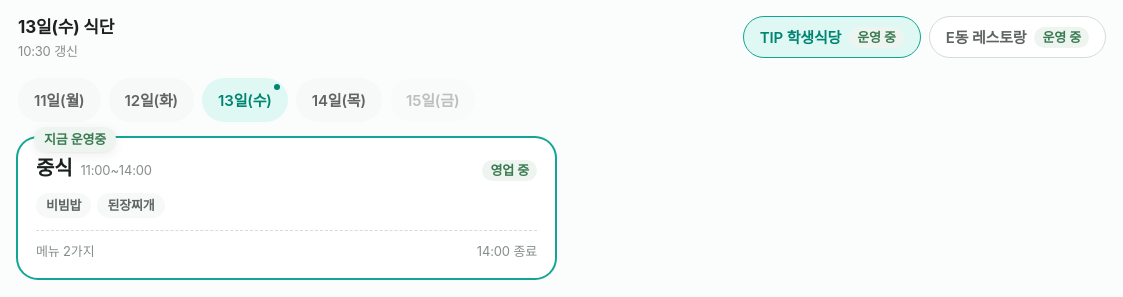
Scenario: CafeteriaPCLayout › 다른 요일 칩 선택 후 다른 식당 카드를 클릭하면 식당이 전환되고 요일 선택이 오늘로 복원된다
11일 칩으로 수동 선택 변경
Click the button "11일(월)": point(59, 100) [18, 78, 100, 122]
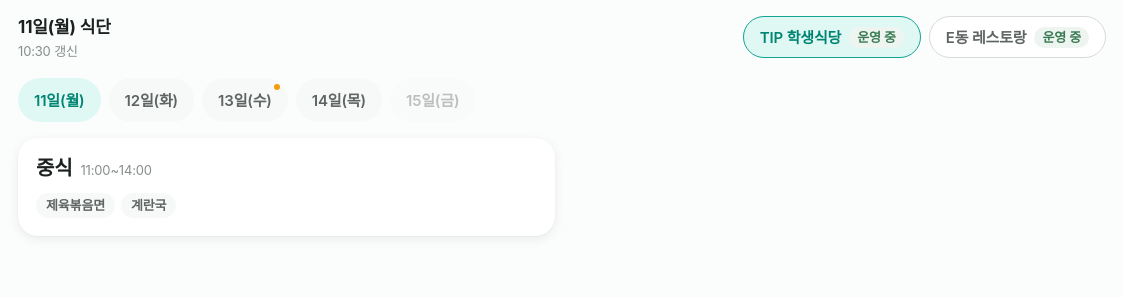
Expected: the text "제육볶음면" is shown, [36, 193, 115, 218]
Click the button "E동 레스토랑 운영 중": point(1017, 37) [929, 16, 1106, 58]
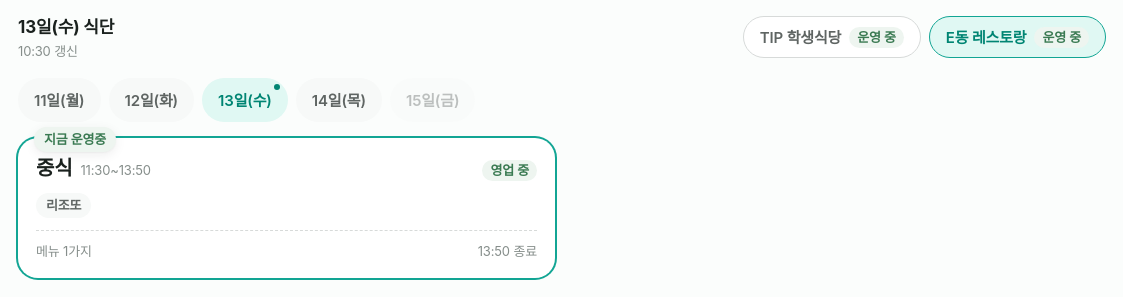
Expected: the text "리조또" is shown, [36, 193, 91, 218]
